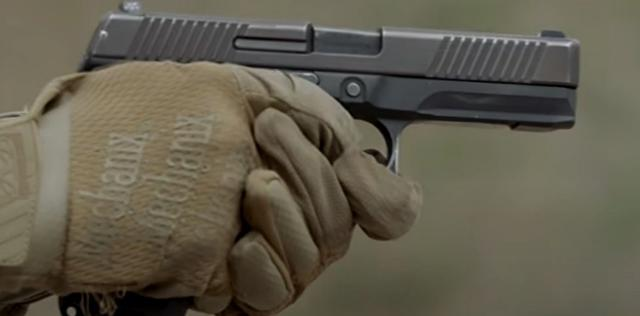handgun: (70, 0, 588, 192)
